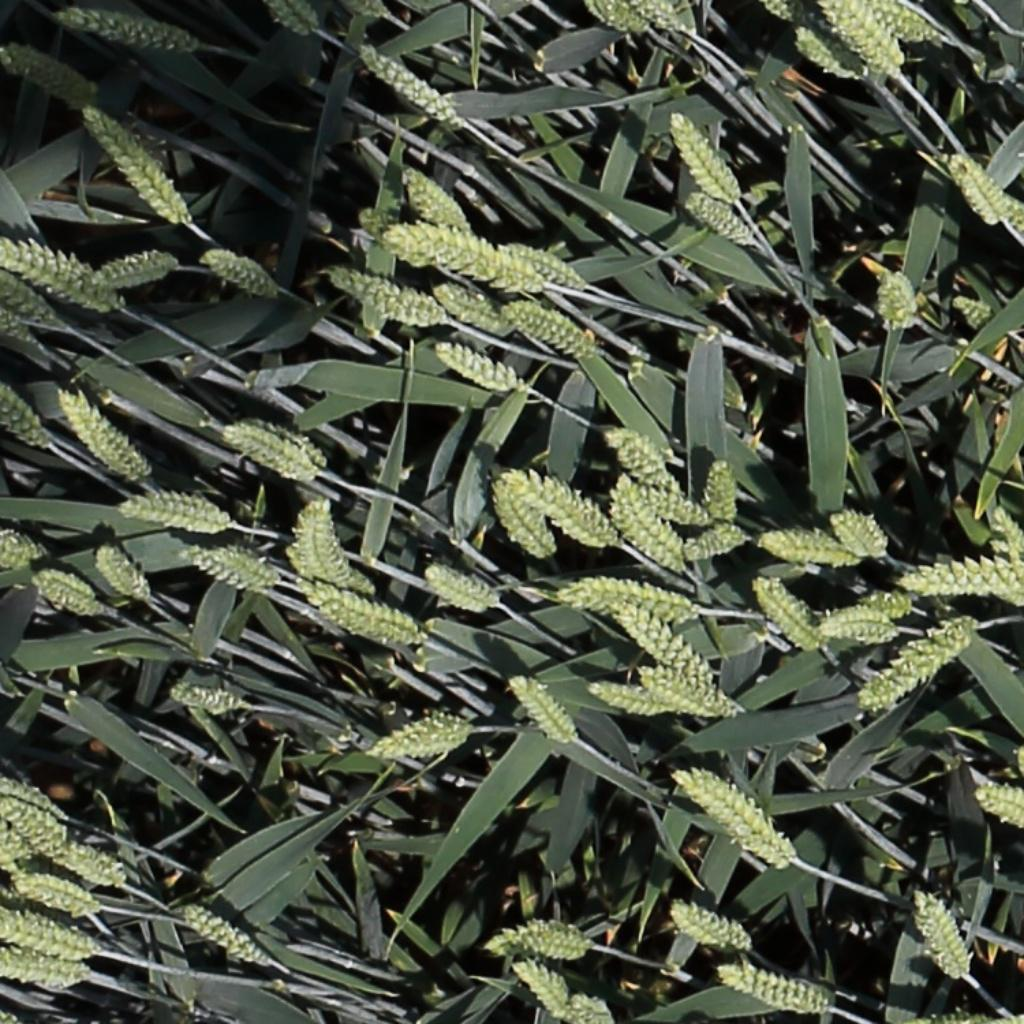0-0: (80, 102, 193, 229), (672, 768, 801, 871), (0, 798, 134, 894), (857, 614, 980, 715), (382, 222, 551, 293), (346, 32, 463, 128), (500, 466, 621, 551), (56, 383, 153, 488), (0, 236, 128, 315), (610, 602, 719, 689), (296, 581, 429, 649), (320, 263, 452, 330), (667, 110, 746, 208), (902, 544, 1024, 606), (610, 488, 693, 576), (557, 576, 704, 625), (7, 37, 106, 108), (936, 149, 1019, 229), (489, 469, 561, 561), (176, 900, 274, 966), (909, 884, 975, 981), (288, 494, 356, 587), (500, 298, 600, 359), (719, 965, 834, 1018), (752, 573, 829, 652), (821, 0, 901, 76), (508, 673, 584, 751), (221, 424, 319, 484), (636, 666, 741, 722), (0, 906, 105, 961), (55, 9, 193, 50), (603, 425, 684, 494), (361, 716, 478, 763), (666, 895, 758, 954), (361, 205, 443, 270), (239, 418, 335, 473), (113, 492, 236, 534), (431, 344, 534, 394), (398, 167, 475, 232), (431, 283, 522, 338), (179, 546, 274, 598), (682, 190, 759, 254), (484, 917, 596, 961), (757, 527, 867, 571), (500, 242, 599, 290), (201, 244, 280, 304), (8, 872, 105, 916), (613, 482, 716, 523), (91, 248, 186, 292), (423, 562, 503, 614), (511, 957, 573, 1022), (30, 568, 104, 622), (94, 542, 155, 606), (0, 947, 95, 988), (1, 773, 75, 825), (1, 268, 64, 329), (825, 500, 892, 557), (791, 28, 862, 79), (875, 263, 925, 334), (1, 381, 50, 450), (818, 602, 902, 640), (209, 547, 285, 588), (588, 685, 682, 717), (865, 1, 937, 40), (166, 681, 248, 715), (683, 522, 750, 562), (0, 517, 53, 567), (974, 779, 1024, 830), (563, 981, 621, 1022), (587, 1, 648, 38), (704, 458, 738, 522), (986, 503, 1024, 560), (950, 293, 1001, 331), (854, 589, 917, 619), (267, 2, 312, 39), (632, 0, 682, 32), (0, 308, 41, 346), (994, 193, 1024, 236), (353, 3, 401, 29), (0, 823, 30, 860)
